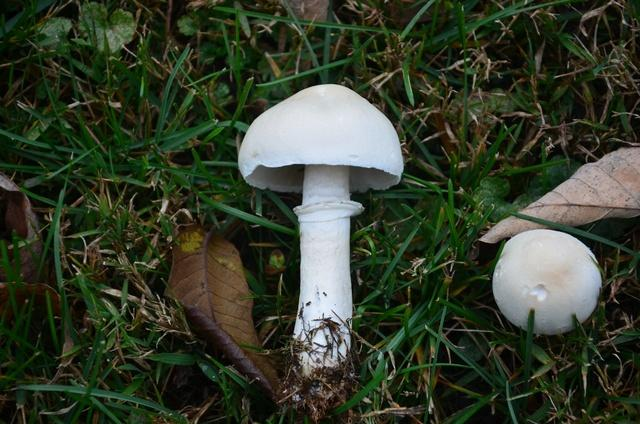Non-edible Mushroom: (236, 82, 404, 379), (491, 227, 602, 335)
